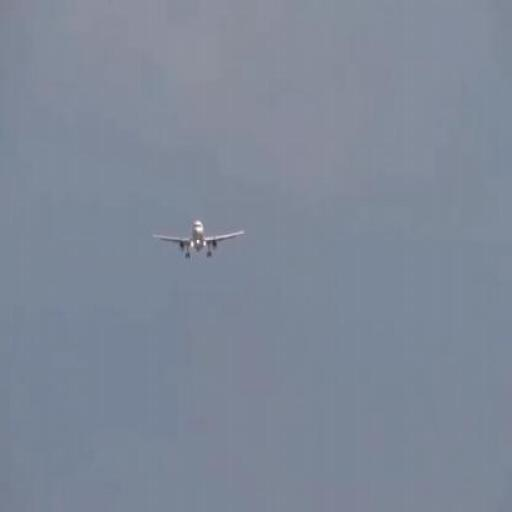aircraft: (152, 220, 246, 258)
